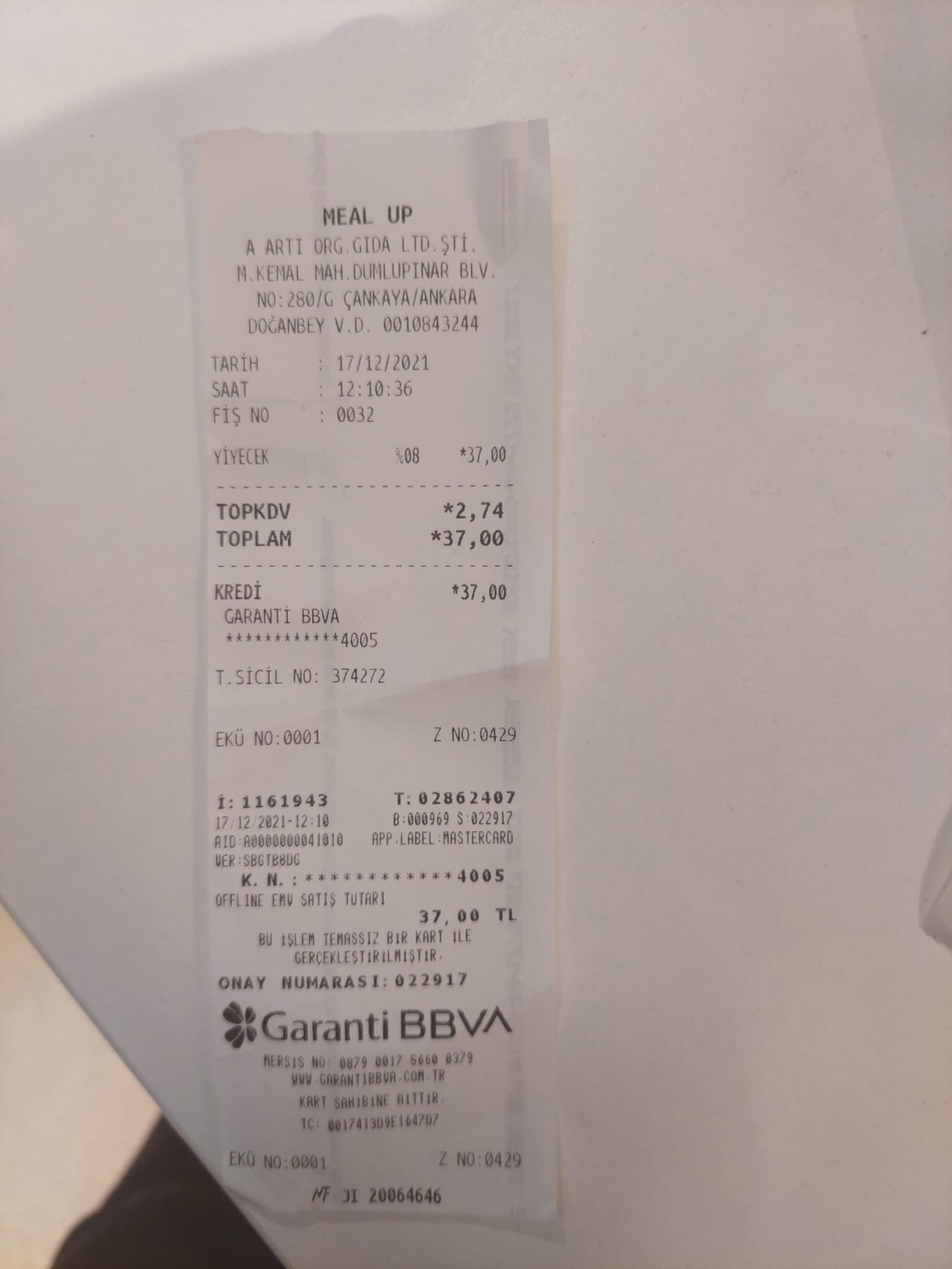date: (439, 522, 512, 557)
price: (327, 348, 437, 377)
workplace: (218, 197, 511, 314)
